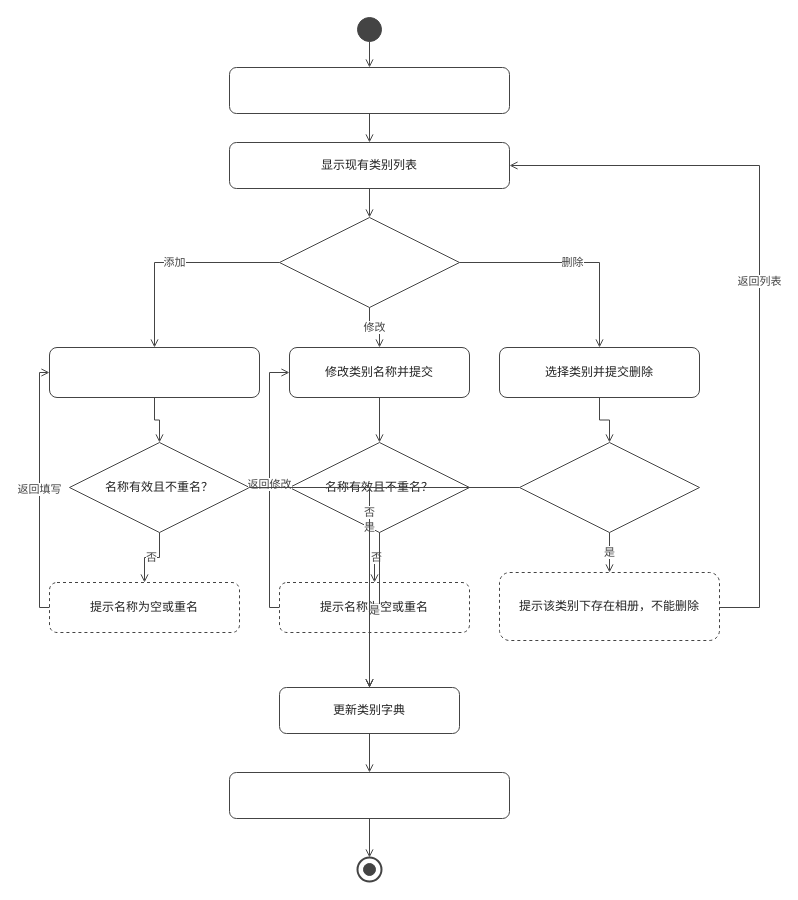
The diagram is 798 pixels wide and 900 high, and some of its shapes have lost their labels. The shapes that lost their labels are listed below. From the top down, each one's centre as x and y in pixels, then its label:
At (x=369, y=90): "进入后台相册类别管理页面".
At (x=369, y=262): "选择的操作？".
At (x=154, y=372): "填写新类别名称并提交".
At (x=609, y=487): "类别下存在相册？".
At (x=369, y=795): "提示成功并刷新类别列表".
